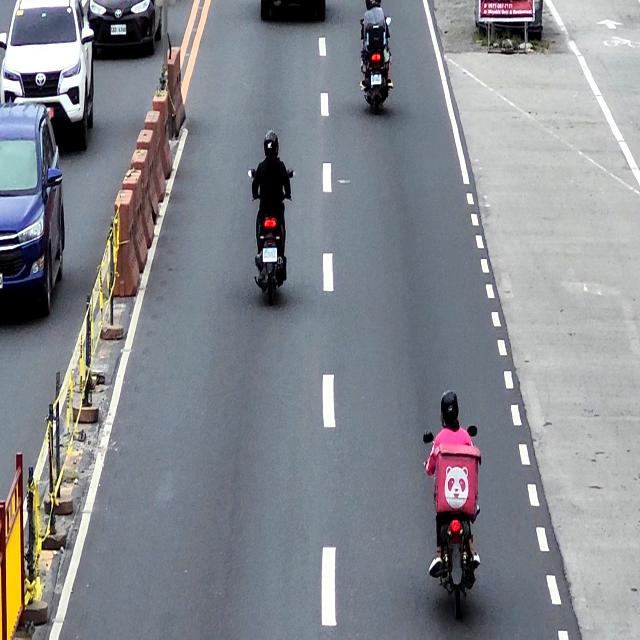Car: (0, 0, 96, 154), (0, 103, 66, 320), (87, 0, 163, 60)
License-Plate: (262, 248, 278, 262), (110, 23, 127, 35), (371, 74, 382, 85)
Motorcycle: (424, 426, 479, 619), (248, 166, 294, 306), (360, 16, 390, 112)
